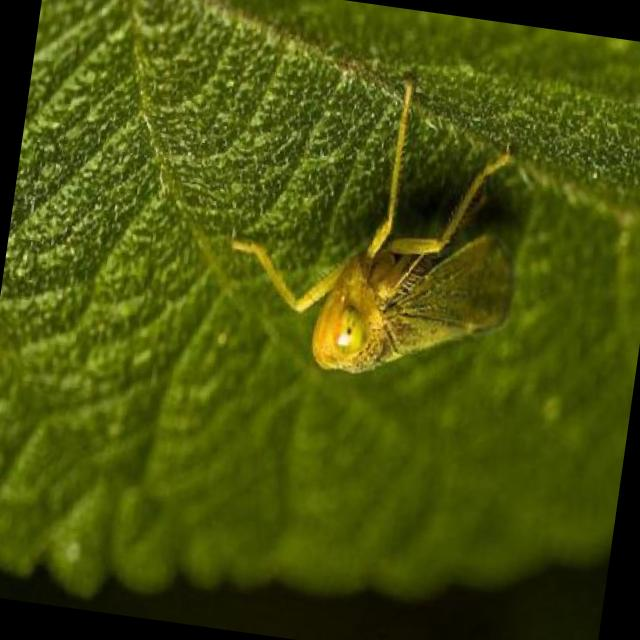green-leafhopper: (233, 80, 526, 408)
